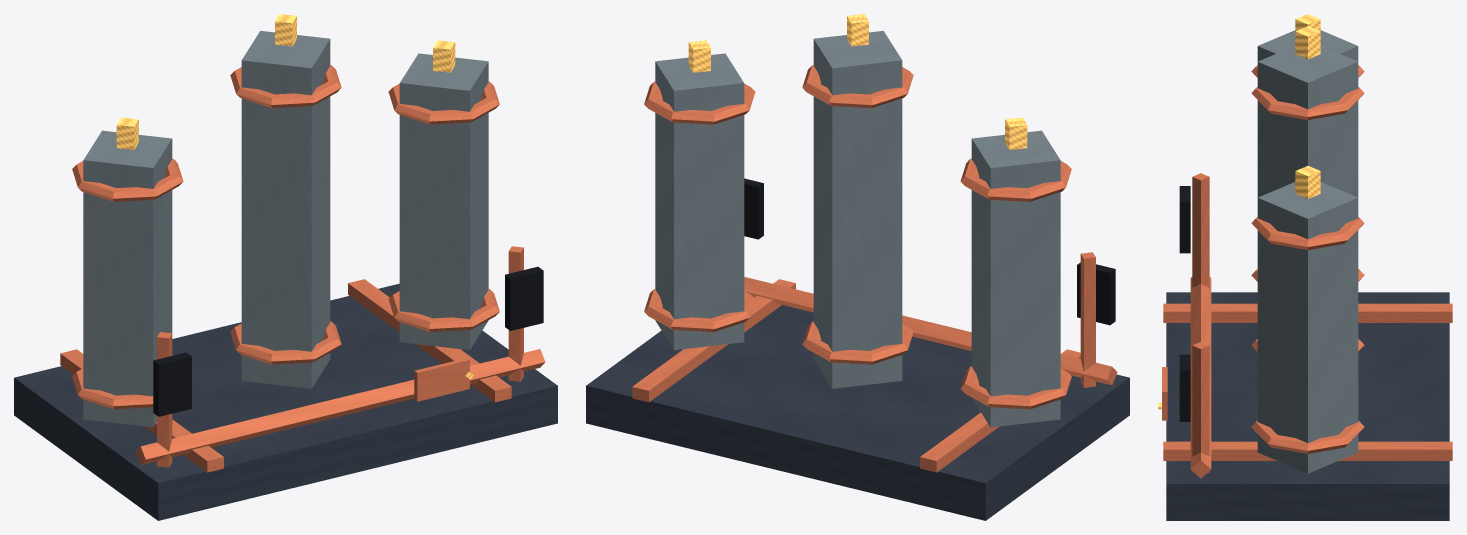
File: atlas100-s028-a02.lod1.glb
The picture shows the model from 3 angles, left to right: view 1: azimuth 30°, elevation 25°; view 2: azimuth 150°, elevation 25°; view 3: azimuth 270°, elevation 25°; orthographic projection.
Visible parts, largest first — view 1: atlas100-s028-a02:part-000, atlas100-s028-a02:part-007, atlas100-s028-a02:part-011, atlas100-s028-a02:part-003, atlas100-s028-a02:part-019, atlas100-s028-a02:part-002, atlas100-s028-a02:part-018, atlas100-s028-a02:part-016, atlas100-s028-a02:part-005, atlas100-s028-a02:part-008, atlas100-s028-a02:part-009, atlas100-s028-a02:part-012 (+9 smaller); view 2: atlas100-s028-a02:part-000, atlas100-s028-a02:part-007, atlas100-s028-a02:part-011, atlas100-s028-a02:part-003, atlas100-s028-a02:part-019, atlas100-s028-a02:part-002, atlas100-s028-a02:part-015, atlas100-s028-a02:part-001, atlas100-s028-a02:part-005, atlas100-s028-a02:part-004, atlas100-s028-a02:part-008, atlas100-s028-a02:part-009 (+7 smaller); view 3: atlas100-s028-a02:part-000, atlas100-s028-a02:part-011, atlas100-s028-a02:part-007, atlas100-s028-a02:part-002, atlas100-s028-a02:part-001, atlas100-s028-a02:part-019, atlas100-s028-a02:part-017, atlas100-s028-a02:part-015, atlas100-s028-a02:part-012, atlas100-s028-a02:part-013, atlas100-s028-a02:part-009, atlas100-s028-a02:part-003 (+4 smaller).
Part boxes in pixels (x1,y1,x2,y2): atlas100-s028-a02:part-000: [14, 283, 557, 520]; atlas100-s028-a02:part-007: [241, 30, 330, 388]; atlas100-s028-a02:part-011: [399, 53, 488, 350]; atlas100-s028-a02:part-003: [83, 130, 172, 427]; atlas100-s028-a02:part-019: [135, 349, 545, 464]; atlas100-s028-a02:part-002: [348, 279, 511, 402]; atlas100-s028-a02:part-018: [505, 266, 543, 330]; atlas100-s028-a02:part-016: [153, 352, 191, 416]; atlas100-s028-a02:part-005: [72, 158, 183, 201]; atlas100-s028-a02:part-008: [230, 321, 341, 364]; atlas100-s028-a02:part-009: [230, 65, 341, 108]; atlas100-s028-a02:part-012: [388, 289, 499, 332]; atlas100-s028-a02:part-000: [586, 305, 1129, 520]; atlas100-s028-a02:part-007: [813, 30, 902, 388]; atlas100-s028-a02:part-011: [655, 53, 744, 350]; atlas100-s028-a02:part-003: [971, 130, 1060, 427]; atlas100-s028-a02:part-019: [744, 277, 1117, 385]; atlas100-s028-a02:part-002: [632, 279, 795, 402]; atlas100-s028-a02:part-015: [1080, 252, 1095, 387]; atlas100-s028-a02:part-001: [920, 349, 1080, 472]; atlas100-s028-a02:part-005: [960, 158, 1071, 201]; atlas100-s028-a02:part-004: [960, 366, 1071, 409]; atlas100-s028-a02:part-008: [802, 321, 913, 364]; atlas100-s028-a02:part-009: [802, 65, 913, 108]; atlas100-s028-a02:part-000: [1166, 292, 1449, 520]; atlas100-s028-a02:part-011: [1257, 182, 1358, 473]; atlas100-s028-a02:part-007: [1257, 46, 1358, 197]; atlas100-s028-a02:part-002: [1163, 441, 1452, 460]; atlas100-s028-a02:part-001: [1163, 303, 1452, 322]; atlas100-s028-a02:part-019: [1190, 277, 1211, 478]; atlas100-s028-a02:part-017: [1192, 342, 1209, 473]; atlas100-s028-a02:part-015: [1192, 173, 1209, 287]; atlas100-s028-a02:part-012: [1251, 420, 1364, 453]; atlas100-s028-a02:part-013: [1251, 217, 1364, 249]; atlas100-s028-a02:part-009: [1251, 87, 1364, 119]; atlas100-s028-a02:part-003: [1257, 30, 1358, 61].
Bounding box in the file's own units: 3 × 2.76 × 1.87.
Materials: 5 (5 with a texture image).
